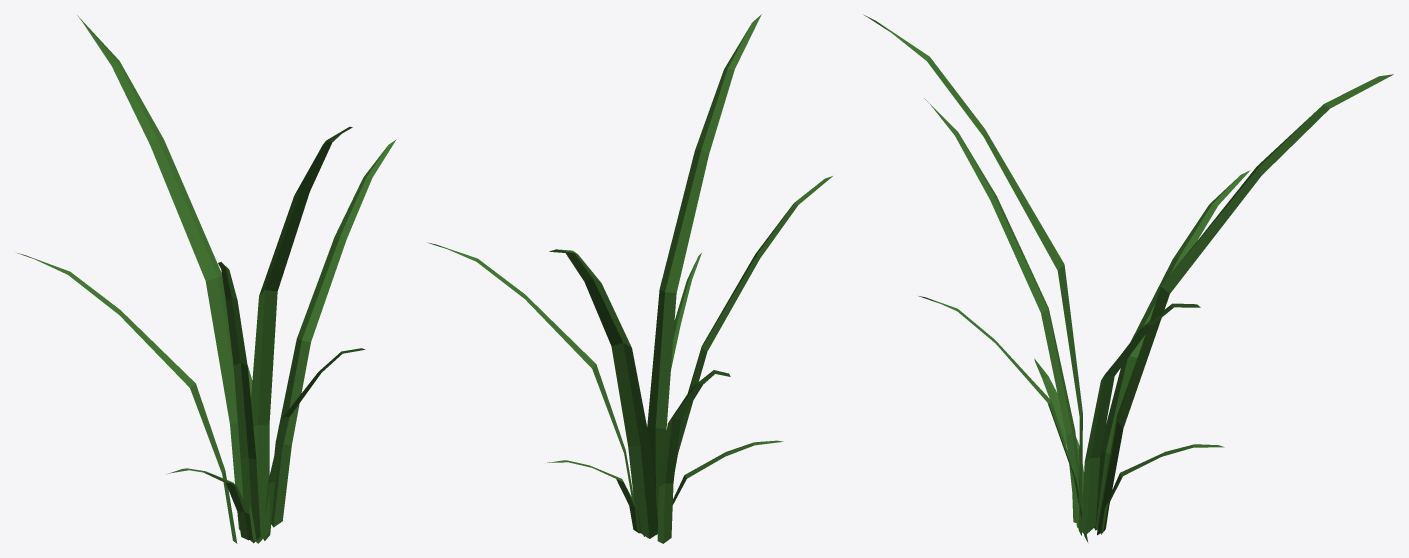
File: grass_large-tuft.glb
The picture shows the model from 3 angles, left to right: view 1: azimuth 30°, elevation 25°; view 2: azimuth 150°, elevation 25°; view 3: azimuth 270°, elevation 25°; orthographic projection. The views are drawn at different scales.
Visible parts, largest first — view 1: Plane.001, Plane, Plane.002, Plane.003, Plane.004, Plane.005, Plane.007; view 2: Plane, Plane.001, Plane.004, Plane.003, Plane.002, Plane.005, Plane.006, Plane.007; view 3: Plane.001, Plane.003, Plane, Plane.002, Plane.004, Plane.005, Plane.007, Plane.006.
Boxes of the visible parts, x1,y1,x2,y2 form: Plane.001: [77, 15, 243, 529]; Plane: [249, 126, 352, 543]; Plane.002: [271, 139, 396, 527]; Plane.003: [218, 262, 260, 543]; Plane.004: [17, 253, 237, 543]; Plane.005: [263, 348, 365, 540]; Plane.007: [168, 468, 252, 540]; Plane: [647, 14, 761, 534]; Plane.001: [549, 249, 657, 538]; Plane.004: [657, 370, 730, 543]; Plane.003: [675, 176, 832, 469]; Plane.002: [428, 242, 633, 500]; Plane.005: [643, 253, 701, 536]; Plane.006: [547, 460, 641, 533]; Plane.007: [672, 440, 783, 504]; Plane.001: [1097, 74, 1393, 535]; Plane.003: [924, 98, 1083, 533]; Plane: [863, 14, 1082, 535]; Plane.002: [1081, 303, 1200, 534]; Plane.004: [1094, 170, 1250, 530]; Plane.005: [918, 296, 1088, 542]; Plane.007: [1034, 358, 1083, 522]; Plane.006: [1101, 444, 1224, 534].
Size of the model in its own units: 1.07 by 1.42 by 1.32.
